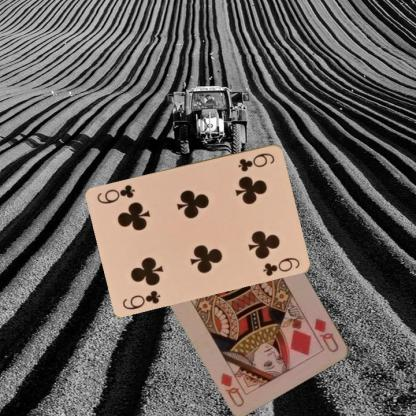6c: (121, 287, 162, 311), (235, 150, 276, 172)
Qd: (311, 316, 340, 354)
